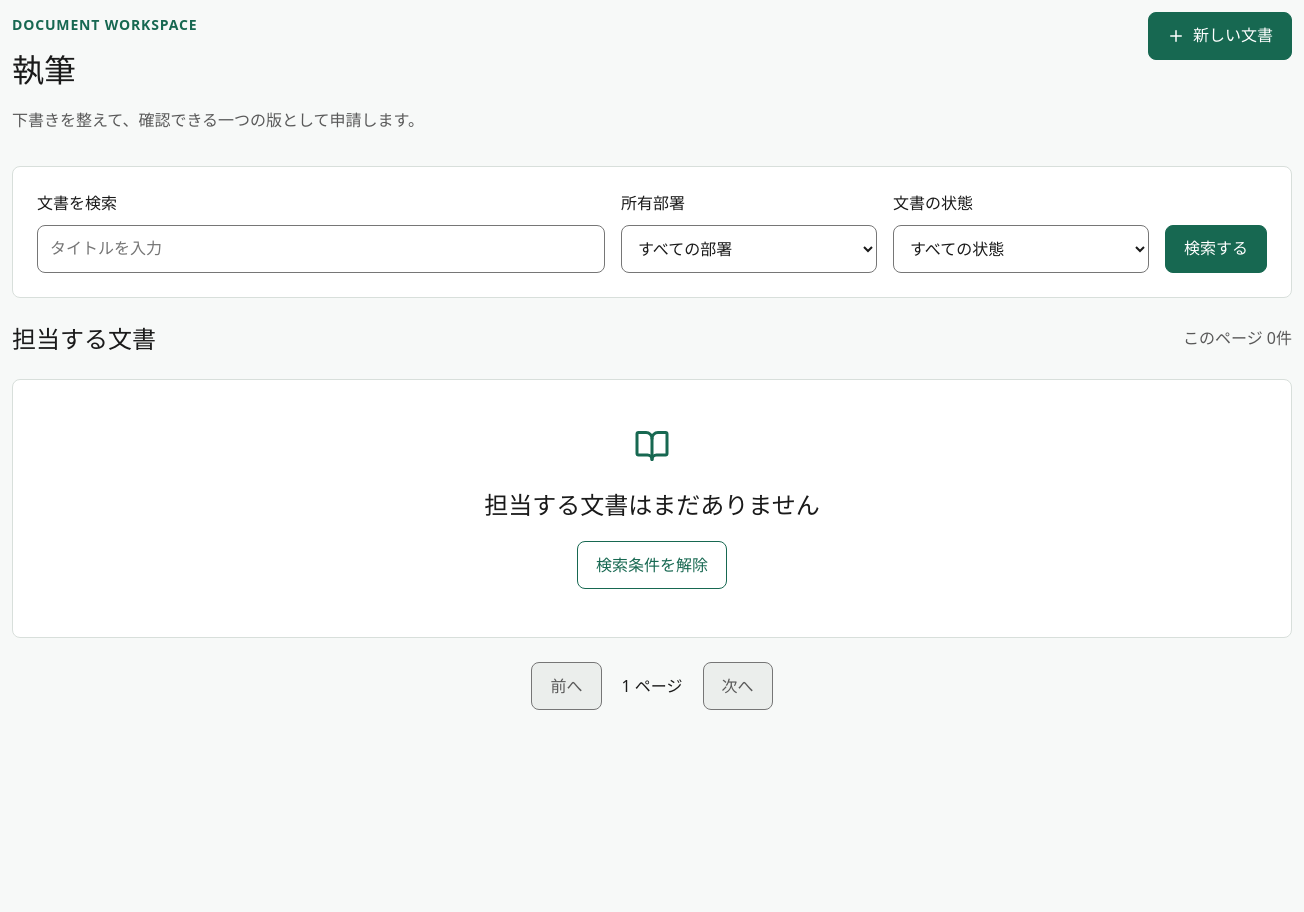
Test: 管理操作と一覧の状態 › 検索は確定後に実行し部署・状態・条件解除を反映する
Check: the heading "担当する文書はまだありません" is shown, box [484,488,820,521]
In the search field labelled "文書を検索": (321, 249) [37,225,605,273], type "単語"
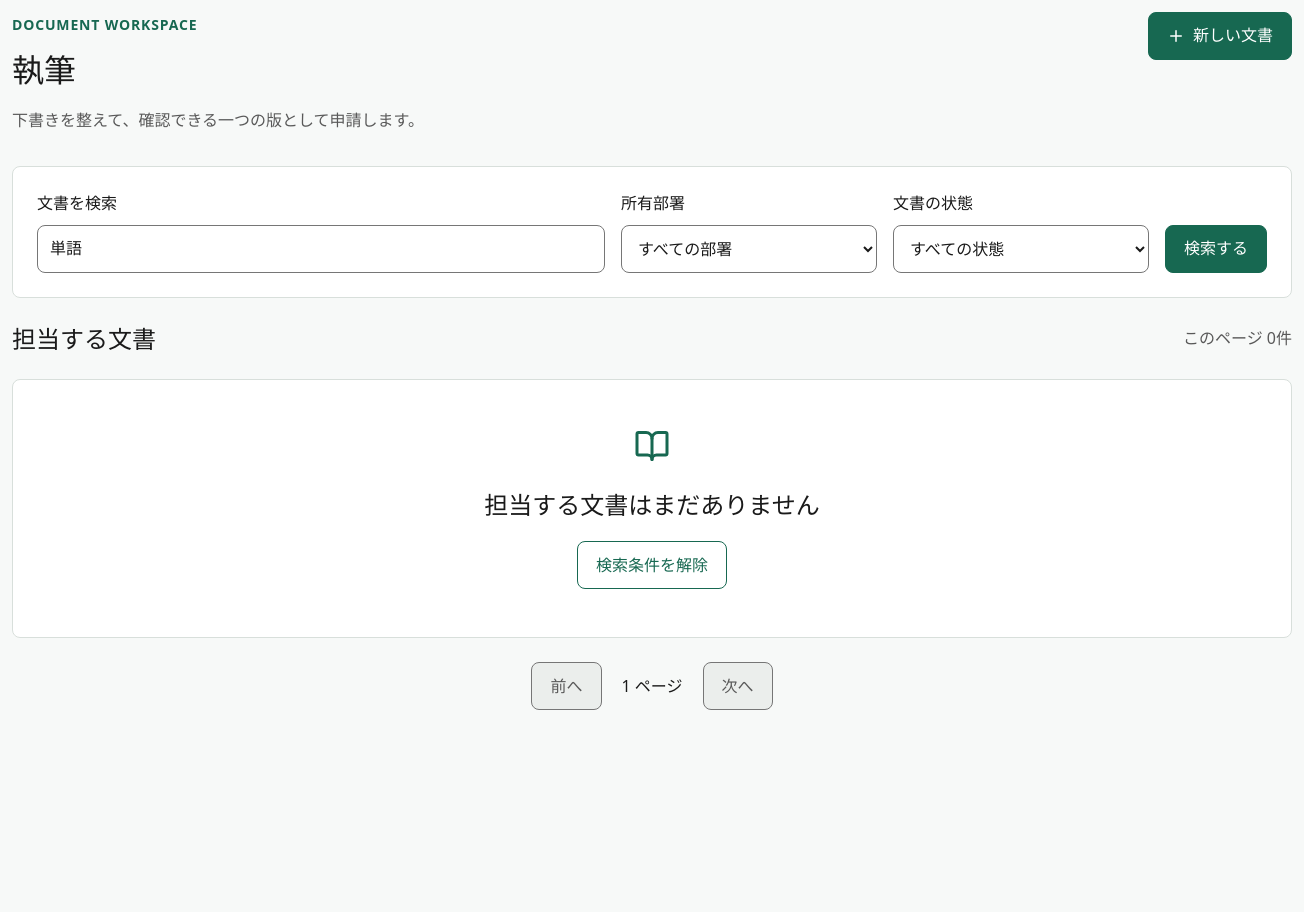
Select "営業部" in the dropdown labelled "所有部署": (749, 249) [621,225,877,273]
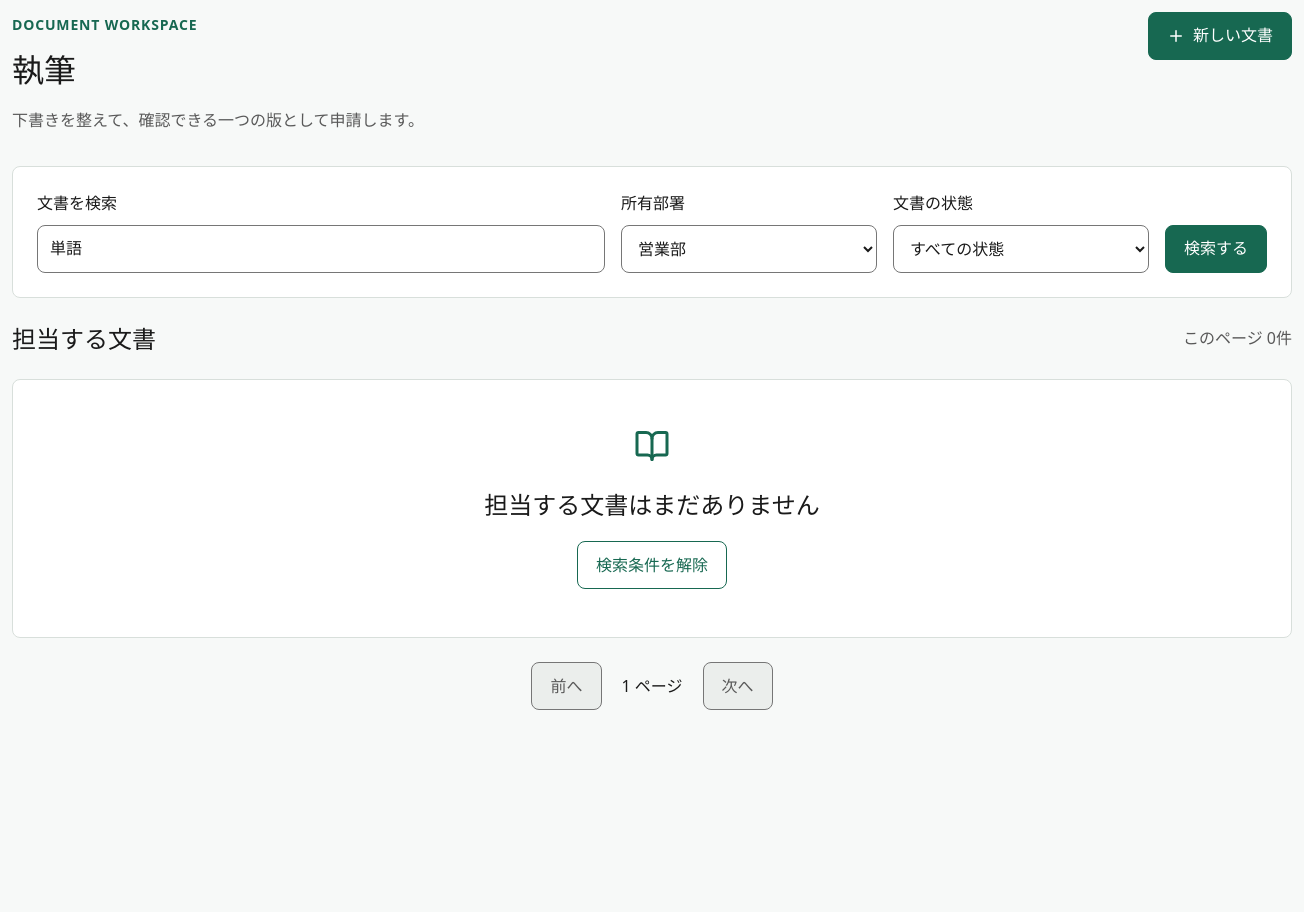
Select "公開停止" in the dropdown labelled "文書の状態": (1021, 249) [893,225,1149,273]
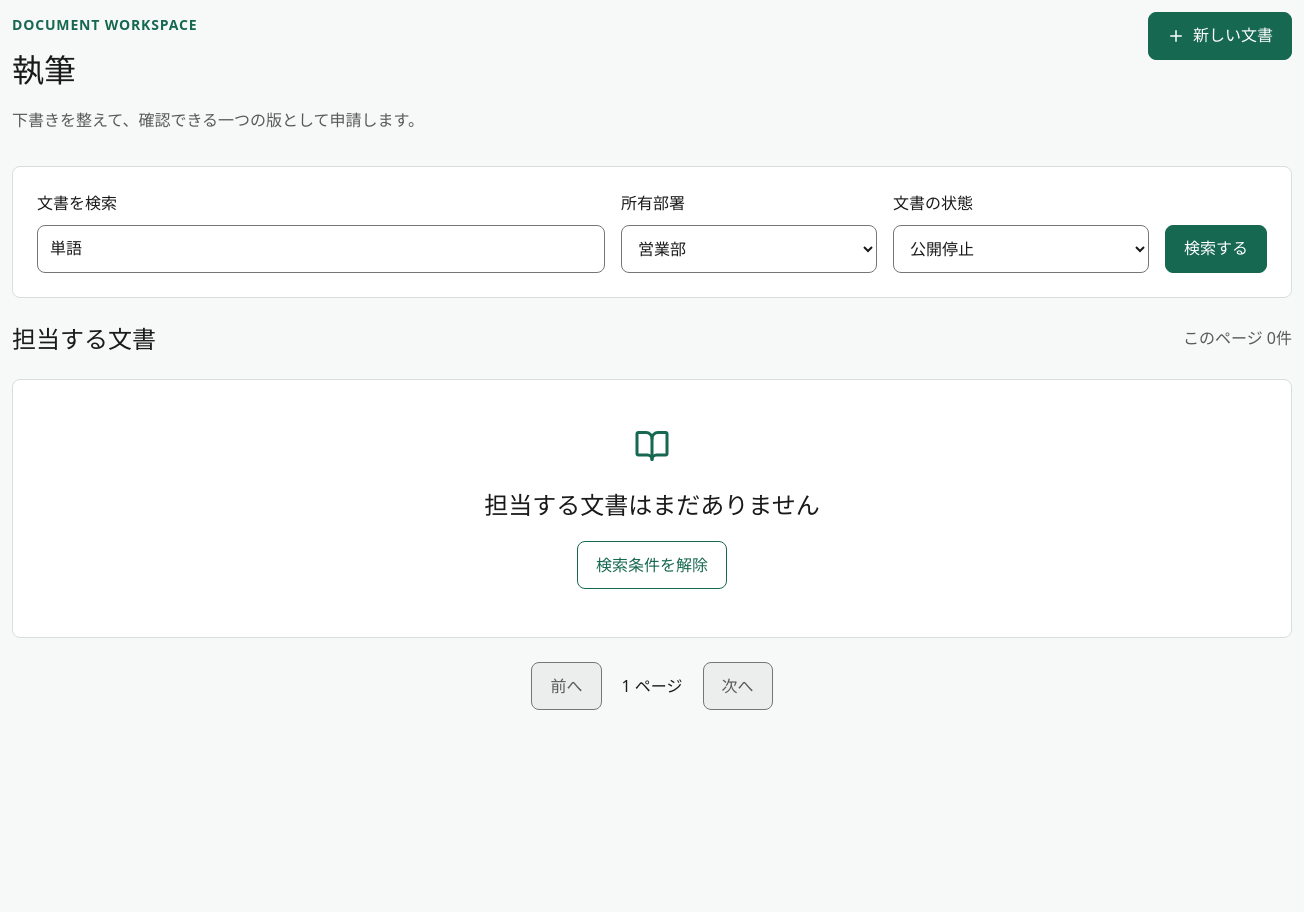
Click the button "検索する": (1216, 249) [1165,225,1267,273]
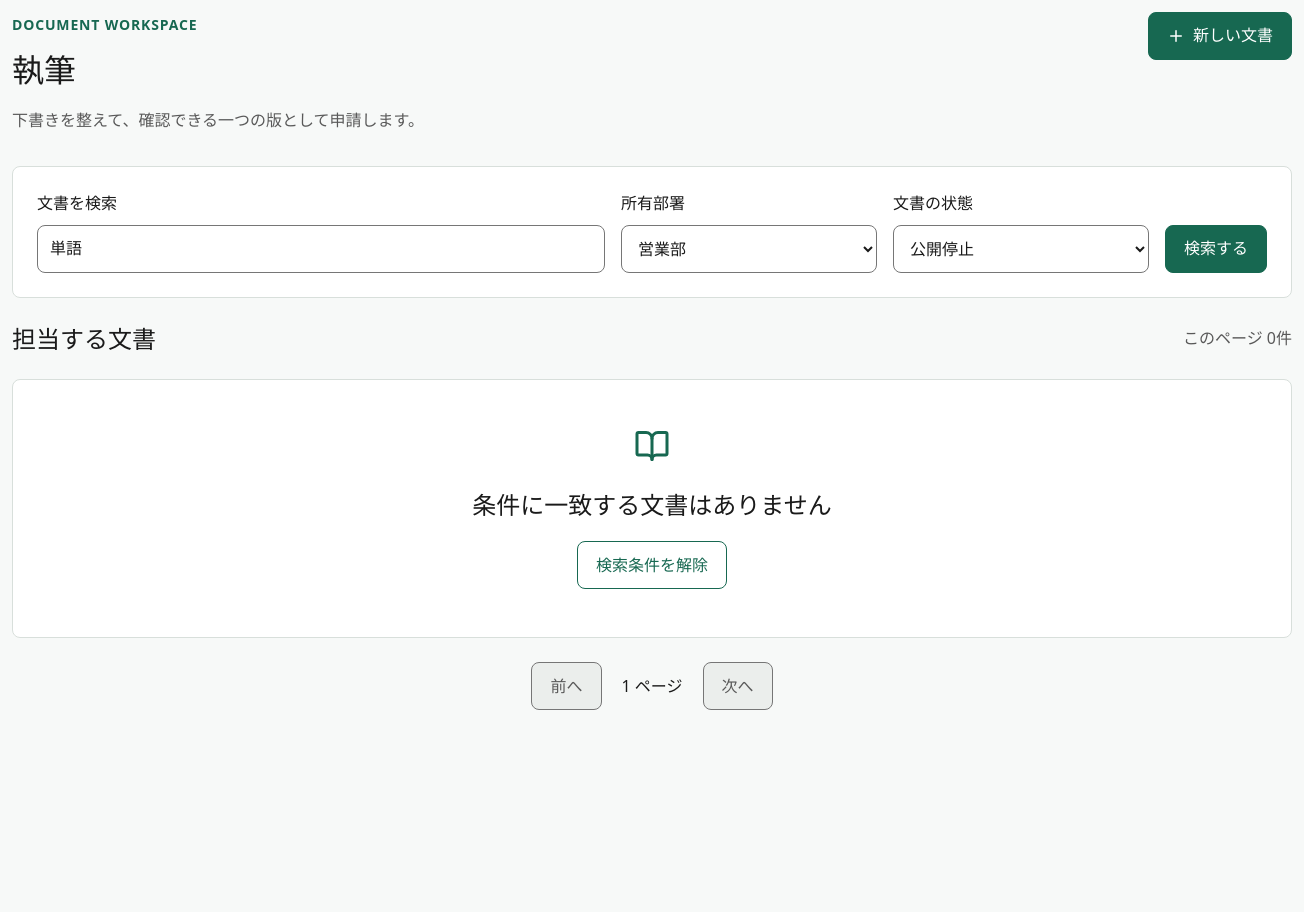
Check: the heading "条件に一致する文書はありません" is shown, box [472,488,832,521]
Click the button "検索条件を解除": (652, 565) [577,541,727,589]
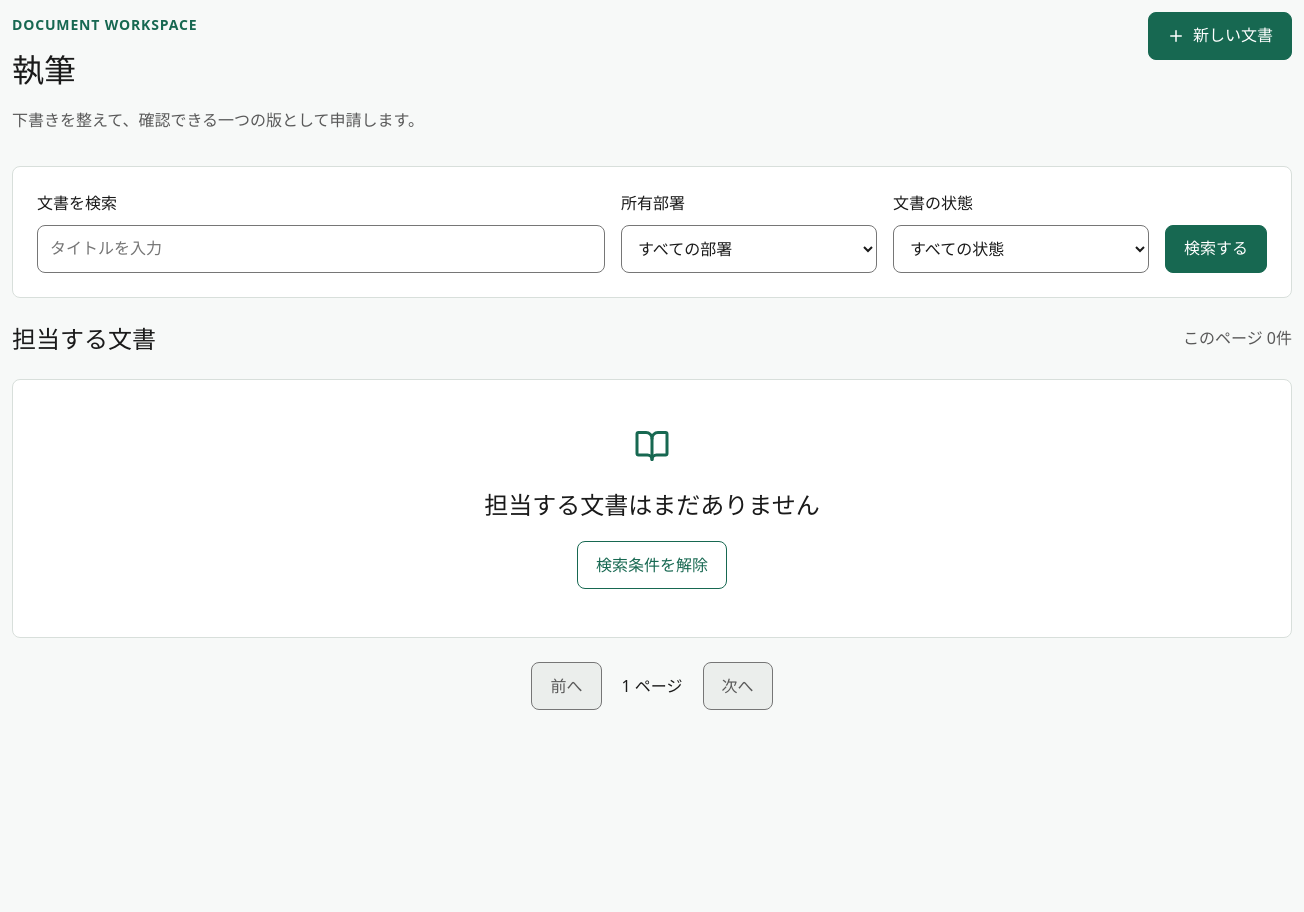
Check: the heading "担当する文書はまだありません" is shown, box [484,488,820,521]
Check: the search field labelled "文書を検索" is empty, box [37,225,605,273]
